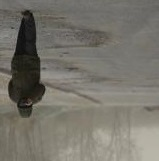person: (8, 10, 46, 119)
